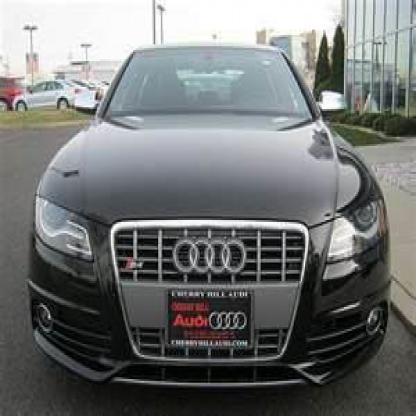Vehicle: (26, 46, 398, 401)
